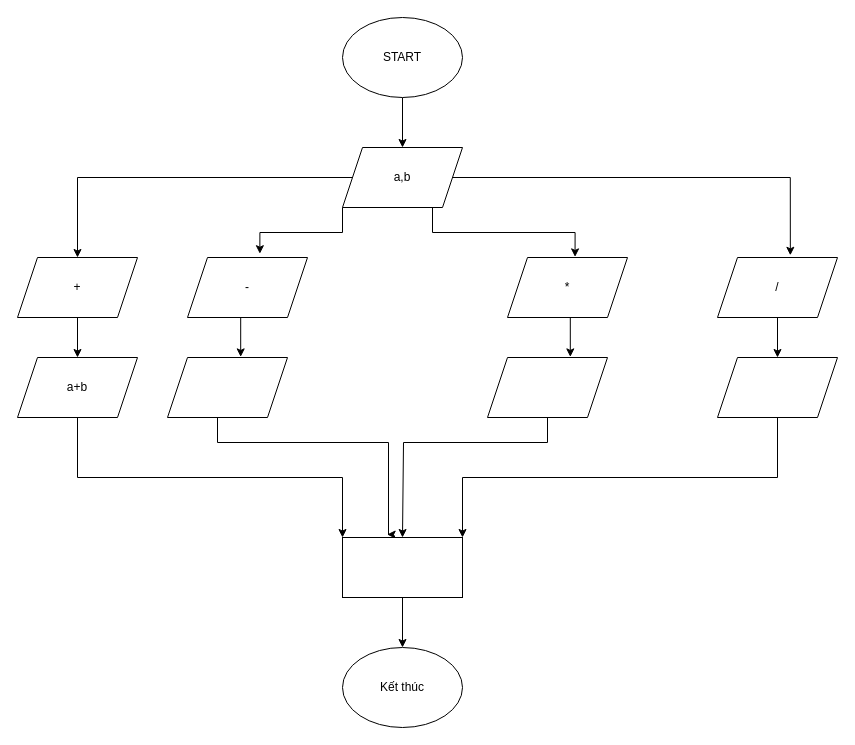
Image size: 855x745. Some labels were removed from this diagram. The centre of each missing label's shape, as x and y in pixels:
"a*b" goes at (x=547, y=387).
"a-b" goes at (x=227, y=387).
"a/b" goes at (x=777, y=387).
"Kết quả" goes at (x=402, y=567).
